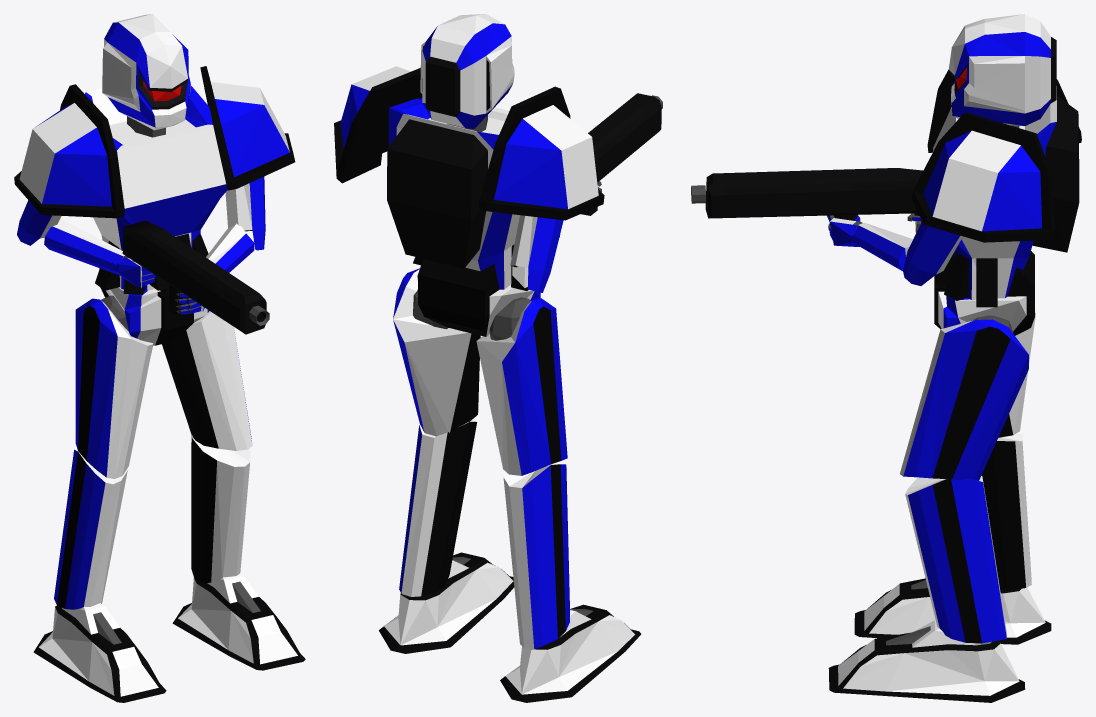
The model's file is robots_000015.obj.
3 views of the same model, side by side, from view 1: azimuth 30°, elevation 25°; view 2: azimuth 150°, elevation 25°; view 3: azimuth 270°, elevation 25° (orthographic). The views are drawn at different scales.
Visible parts, largest first — view 1: Chest_plate_Cube.004, R_Thigh_Cube.005, Cube.002_Cube.059, R_Thigh.002_Cube.027, Head_base_Cube.022, R_Foot_Cube, R_Shin_Cube.007, R_Shin.002_Cube.029, R_Foot.002_Cube.035, Cube_Cube.001, Cube_Cube.021, Pelvis_Cube.006 (+5 smaller); view 2: Chest_plate_Cube.004, Cube.002_Cube.059, R_Thigh_Cube.005, R_Shin_Cube.007, R_Shin.002_Cube.029, Head_base_Cube.022, R_Thigh.002_Cube.027, R_Foot_Cube, R_Foot.002_Cube.035, Cube_Cube.021, Pelvis_Cube.006, Cube_Cube.001 (+2 smaller); view 3: Cube_Cube.021, R_Thigh.002_Cube.027, R_Shin.002_Cube.029, R_Foot.002_Cube.035, Head_base_Cube.022, Cube_Cube.001, Chest_plate_Cube.004, R_Shin_Cube.007, R_Foot_Cube, Pelvis_Cube.006, L_Arm_Cube.014, L_Forearm_Cube.020 (+3 smaller).
Part boxes in pixels (<box>): Chest_plate_Cube.004: <box>85,86,227,295</box>; R_Thigh_Cube.005: <box>75,298,153,478</box>; Cube.002_Cube.059: <box>14,84,124,218</box>; R_Thigh.002_Cube.027: <box>162,311,252,450</box>; Head_base_Cube.022: <box>102,14,190,130</box>; R_Foot_Cube: <box>33,603,166,702</box>; R_Shin_Cube.007: <box>54,449,127,609</box>; R_Shin.002_Cube.029: <box>191,435,250,583</box>; R_Foot.002_Cube.035: <box>172,573,305,670</box>; Cube_Cube.001: <box>122,220,269,334</box>; Cube_Cube.021: <box>200,66,295,190</box>; Pelvis_Cube.006: <box>99,268,209,345</box>; Chest_plate_Cube.004: <box>387,98,528,290</box>; Cube.002_Cube.059: <box>478,86,604,220</box>; R_Thigh_Cube.005: <box>476,298,567,475</box>; R_Shin_Cube.007: <box>503,464,569,648</box>; R_Shin.002_Cube.029: <box>399,420,476,596</box>; Head_base_Cube.022: <box>420,14,514,128</box>; R_Thigh.002_Cube.027: <box>393,268,480,436</box>; R_Foot_Cube: <box>500,604,641,702</box>; R_Foot.002_Cube.035: <box>379,552,514,653</box>; Cube_Cube.021: <box>334,66,422,183</box>; Pelvis_Cube.006: <box>417,259,540,336</box>; Cube_Cube.001: <box>581,93,662,215</box>; Cube_Cube.021: <box>911,112,1055,242</box>; R_Thigh.002_Cube.027: <box>900,319,1028,480</box>; R_Shin.002_Cube.029: <box>905,476,1006,643</box>; R_Foot.002_Cube.035: <box>828,620,1025,702</box>; Head_base_Cube.022: <box>948,14,1056,126</box>; Cube_Cube.001: <box>691,168,922,221</box>; Chest_plate_Cube.004: <box>933,86,1079,307</box>; R_Shin_Cube.007: <box>981,431,1031,590</box>; R_Foot_Cube: <box>854,578,1051,644</box>; Pelvis_Cube.006: <box>934,251,1034,335</box>; L_Arm_Cube.014: <box>903,221,962,285</box>; L_Forearm_Cube.020: <box>853,222,912,271</box>.
Bounding box in the file's own units: 1.32 × 3.05 × 1.68.
